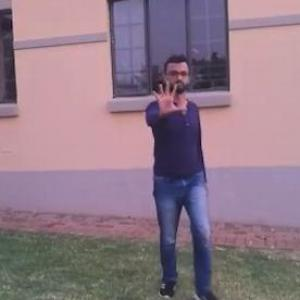follow_hand: (146, 72, 190, 120)
